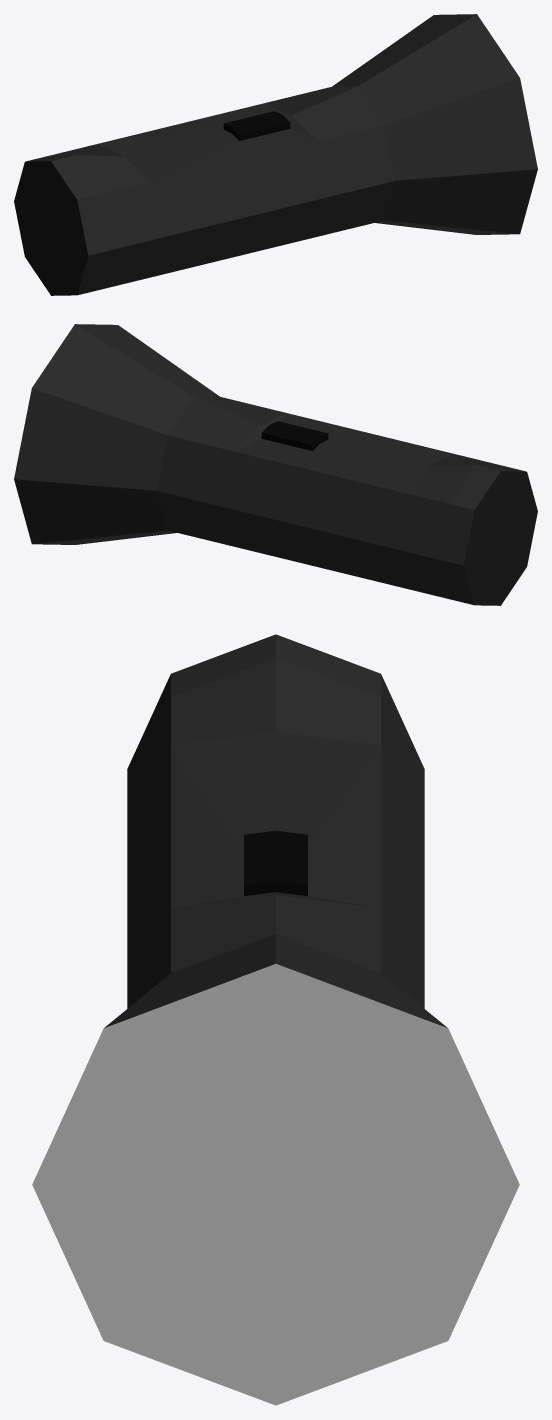
The model's file is model_flashlight.fbx.
3 views of the same model, one above another, from view 1: azimuth 30°, elevation 25°; view 2: azimuth 150°, elevation 25°; view 3: azimuth 270°, elevation 25° (orthographic). The views are drawn at different scales.
Parts seen in each view (by area): view 1: mesh_flashlight; view 2: mesh_flashlight; view 3: mesh_flashlight.
Part boxes in pixels (x1,y1,x2,y2): mesh_flashlight: [14, 14, 537, 295]; mesh_flashlight: [14, 324, 537, 605]; mesh_flashlight: [32, 634, 519, 1405].
Size of the model in its own units: 662 by 328 by 328.
